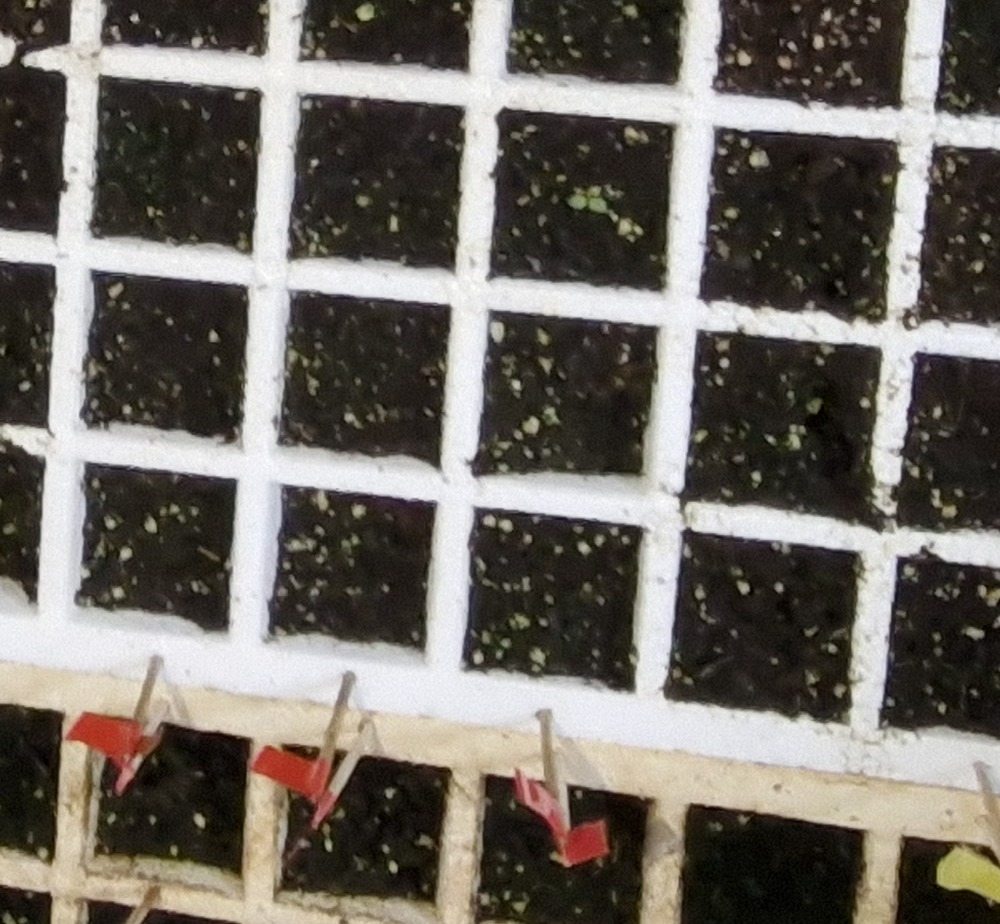Folha: (588, 198, 607, 214), (568, 194, 588, 209), (589, 186, 601, 197)
Germinacao: (567, 185, 607, 212)
